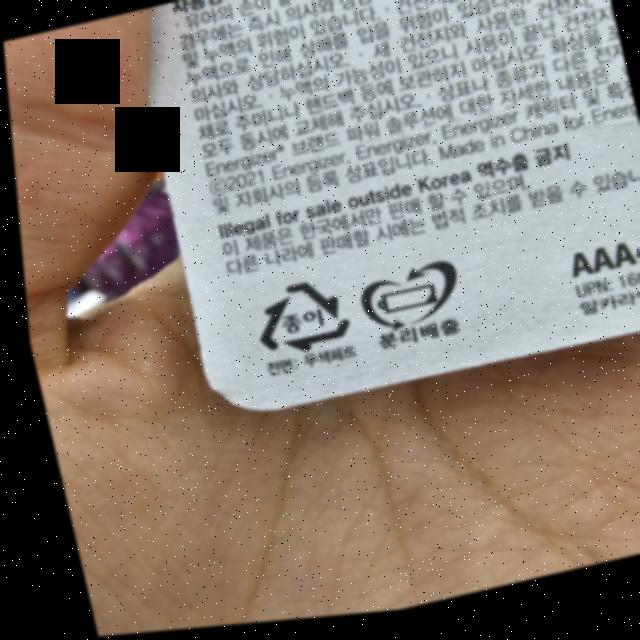Paper: (240, 276, 350, 368)
